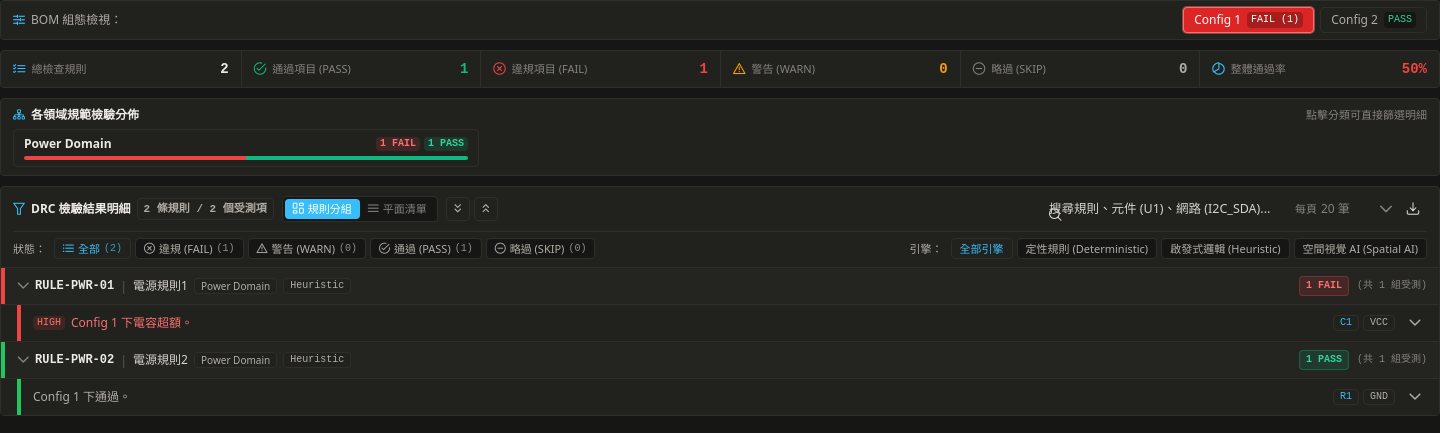
Test: TaskReportDashboard.vue › 支援多 BOM Config 切換，若該 Config 有 FAIL 則按鈕固定為紅底，切換時全頁數據卡連動
Expected: the element with class "bom-config-filter-group" is shown, [0,0,1439,40]
Expected: the button with class "bom-config-filter-btn" showing "Config 1 FAIL (1)" is shown, [1183,7,1314,33]
點擊切換至 Config 2
Click the button with class "bom-config-filter-btn" showing "Config 2 PASS": (1374, 20) [1320,7,1427,33]
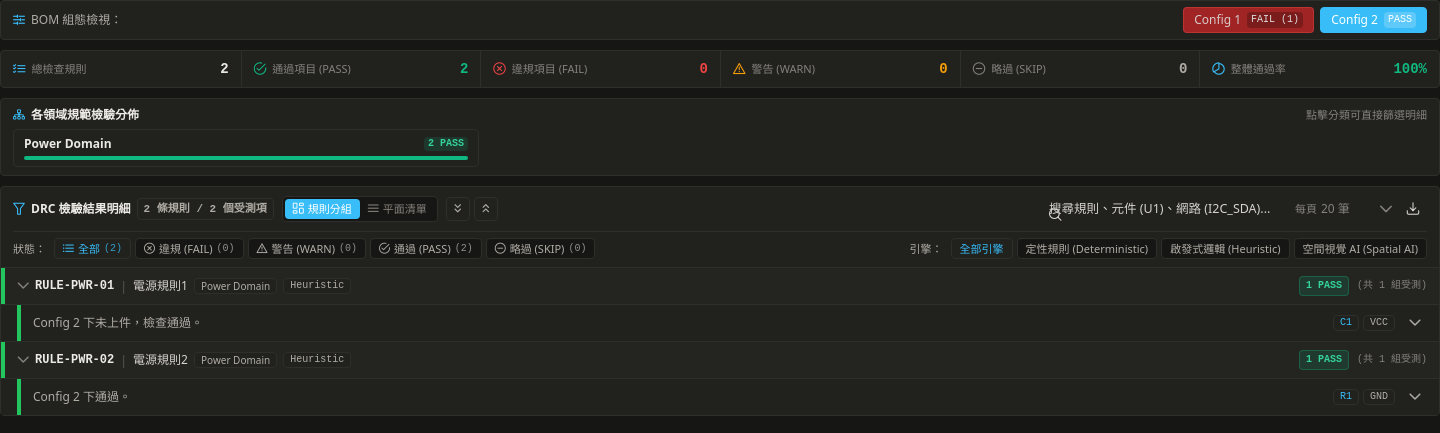
Result: the text with class "card-number" next to "違規項目 (FAIL)" reads "0" at [700,61,708,77]
Result: the text with class "card-number" next to "通過項目 (PASS)" reads "2" at [460,61,468,77]
Result: the text "Config 2 下未上件，檢查通過。" is shown at [33,315,203,331]
